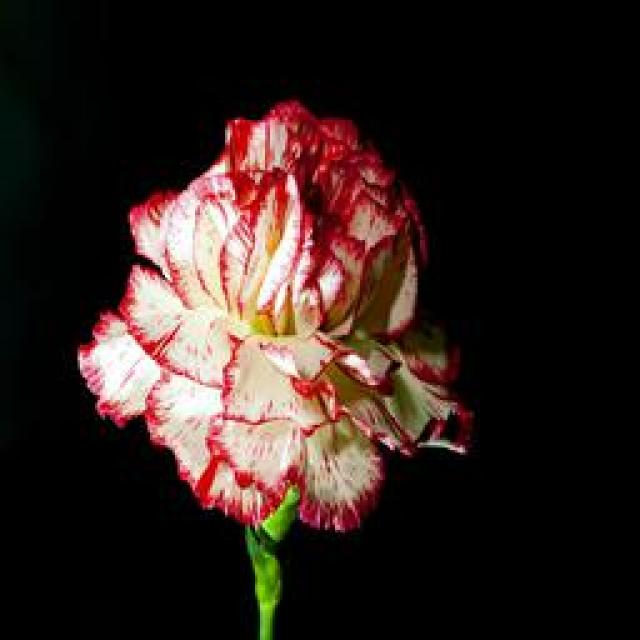carnation: (69, 85, 456, 549)
